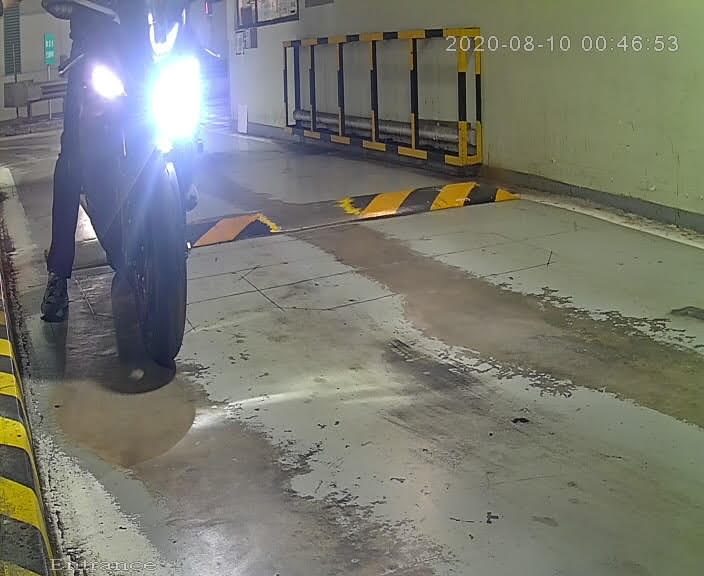motorcycle: (22, 1, 223, 404)
